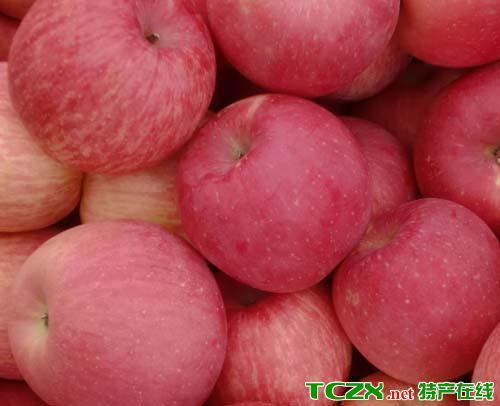apple: (2, 202, 226, 404), (178, 95, 369, 297), (8, 2, 216, 185), (338, 199, 499, 377), (204, 1, 402, 104), (213, 288, 352, 406)
